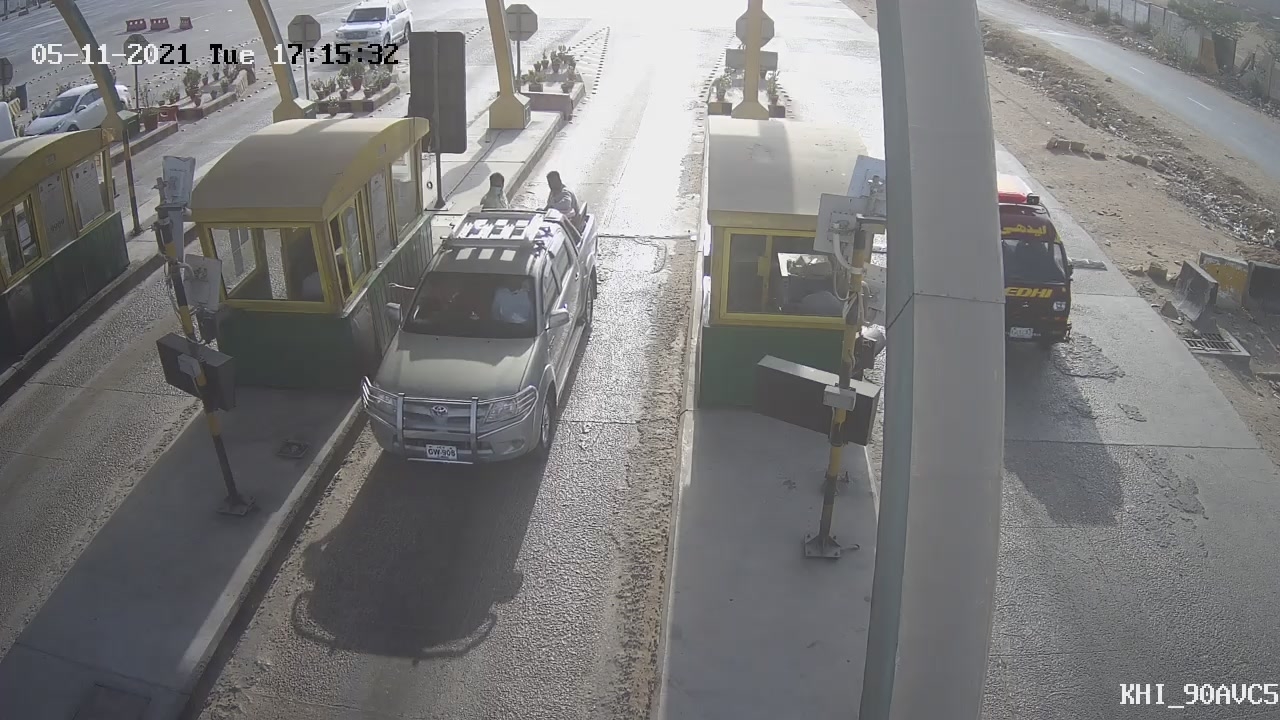F1: (335, 160, 624, 496)
